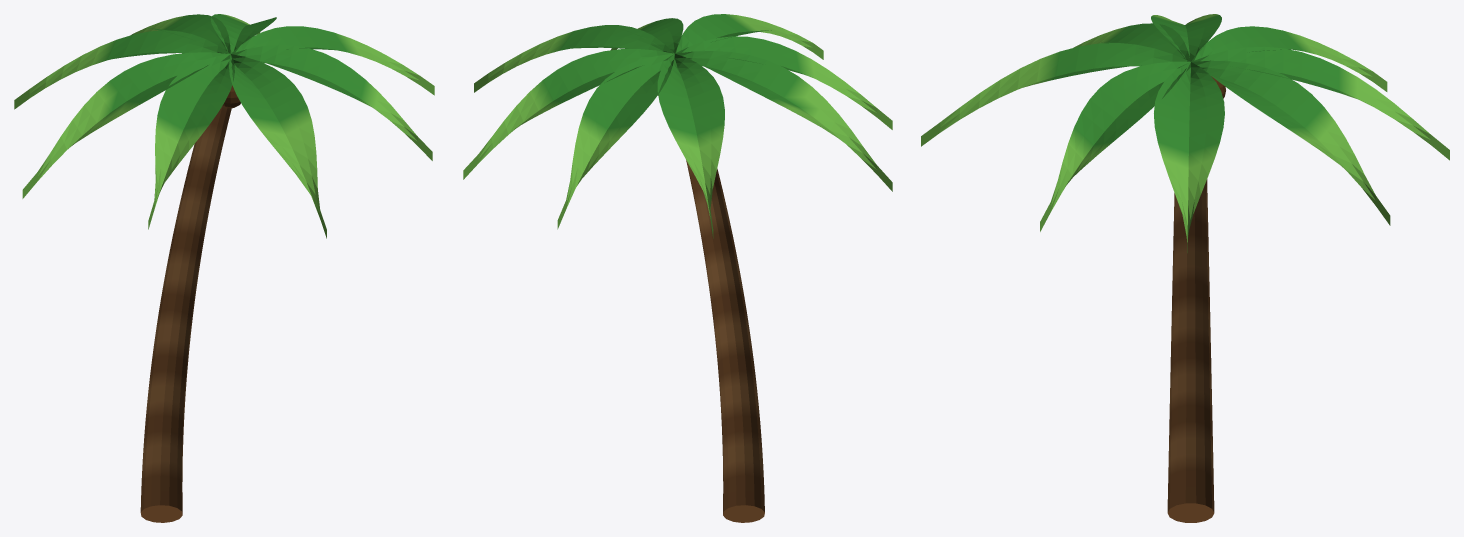
The model's file is beach_palm.glb.
3 views of the same model, side by side, from view 1: azimuth 30°, elevation 25°; view 2: azimuth 150°, elevation 25°; view 3: azimuth 270°, elevation 25° (orthographic). The views are drawn at different scales.
Parts seen in each view (by area): view 1: Palm; view 2: Palm; view 3: Palm.
Boxes of the visible parts, x1,y1,x2,y2 form: Palm: (14,14,434,522); Palm: (463,14,892,522); Palm: (921,14,1449,522).
Bounding box in the file's own units: 5.41 × 5.56 × 5.42.
